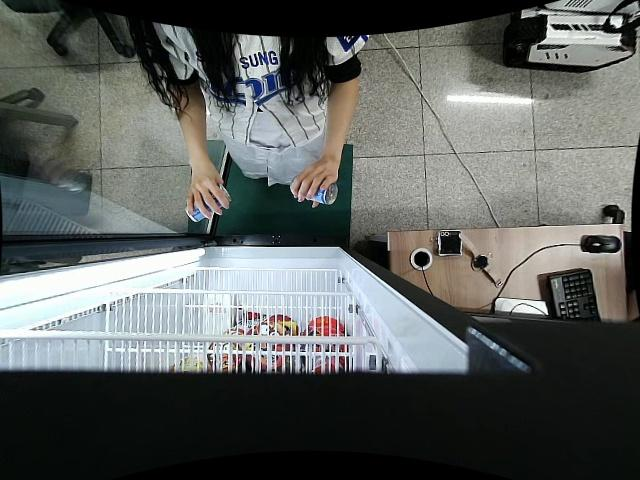00_hand: (184, 163, 230, 221), (290, 159, 339, 208)
15_letsbe: (184, 182, 228, 223), (292, 179, 338, 207)
